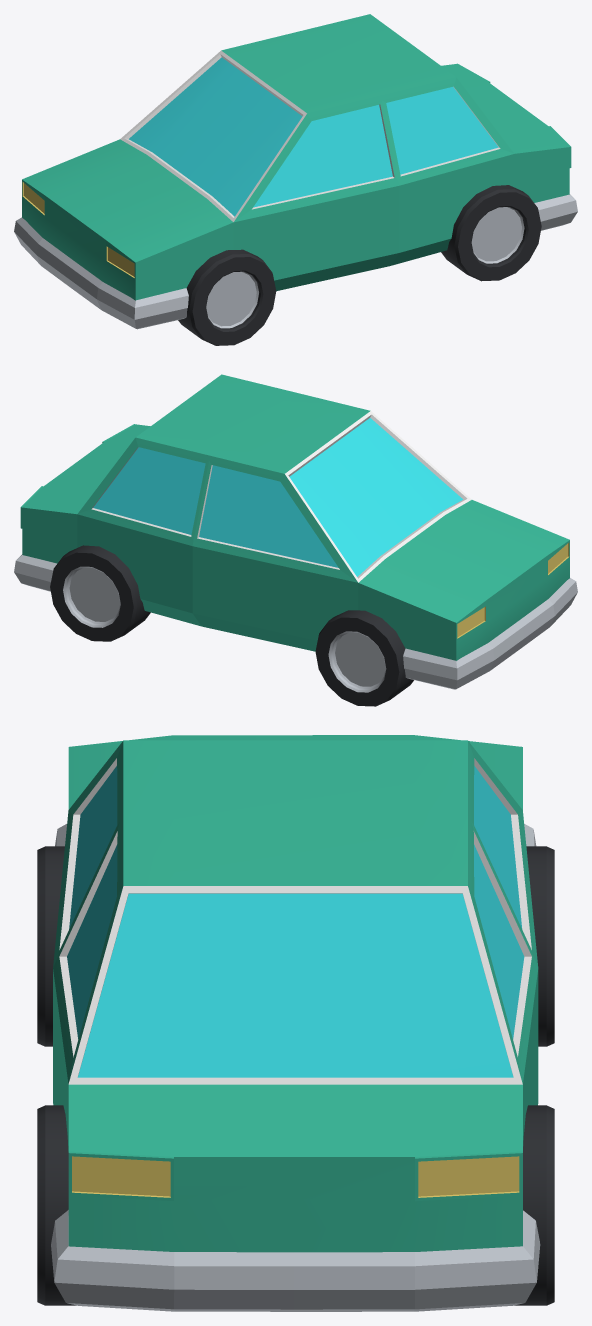
The model's file is car_normal.fbx.
The picture shows the model from 3 angles, top to bottom: view 1: azimuth 30°, elevation 25°; view 2: azimuth 150°, elevation 25°; view 3: azimuth 270°, elevation 25°; orthographic projection. The views are drawn at different scales.
Parts seen in each view (by area): view 1: car_police1; view 2: car_police1; view 3: car_police1.
Boxes of the visible parts, x1=… form: car_police1: x1=14, y1=14, x2=577, y2=345; car_police1: x1=14, y1=374, x2=577, y2=706; car_police1: x1=37, y1=735, x2=554, y2=1311.
Size of the model in its own units: 6.93 by 2.83 by 3.39.
